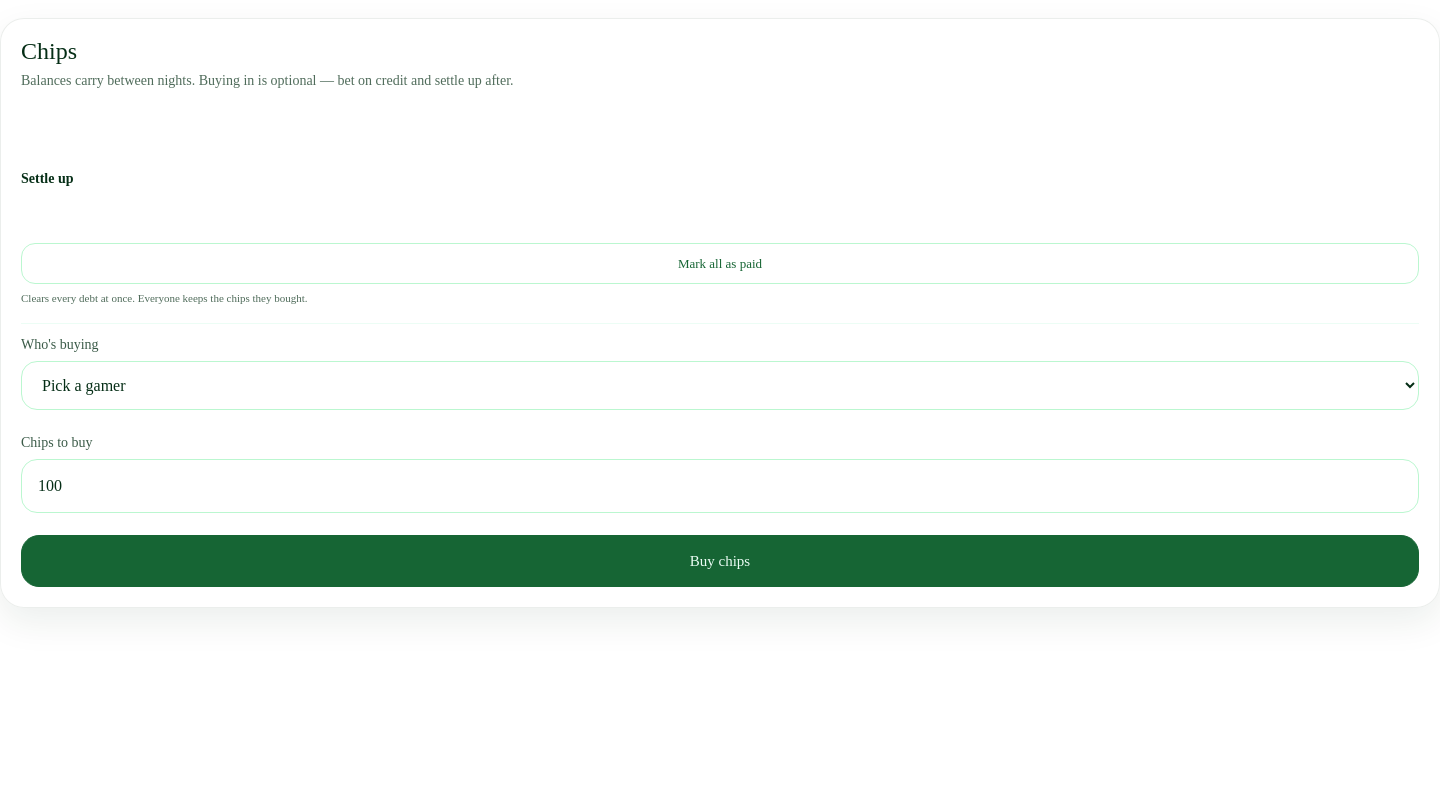
ChipLedgerPanel › will not buy without a buyer
Click the button "Buy chips" at (720, 561), box [21,534,1419,587]
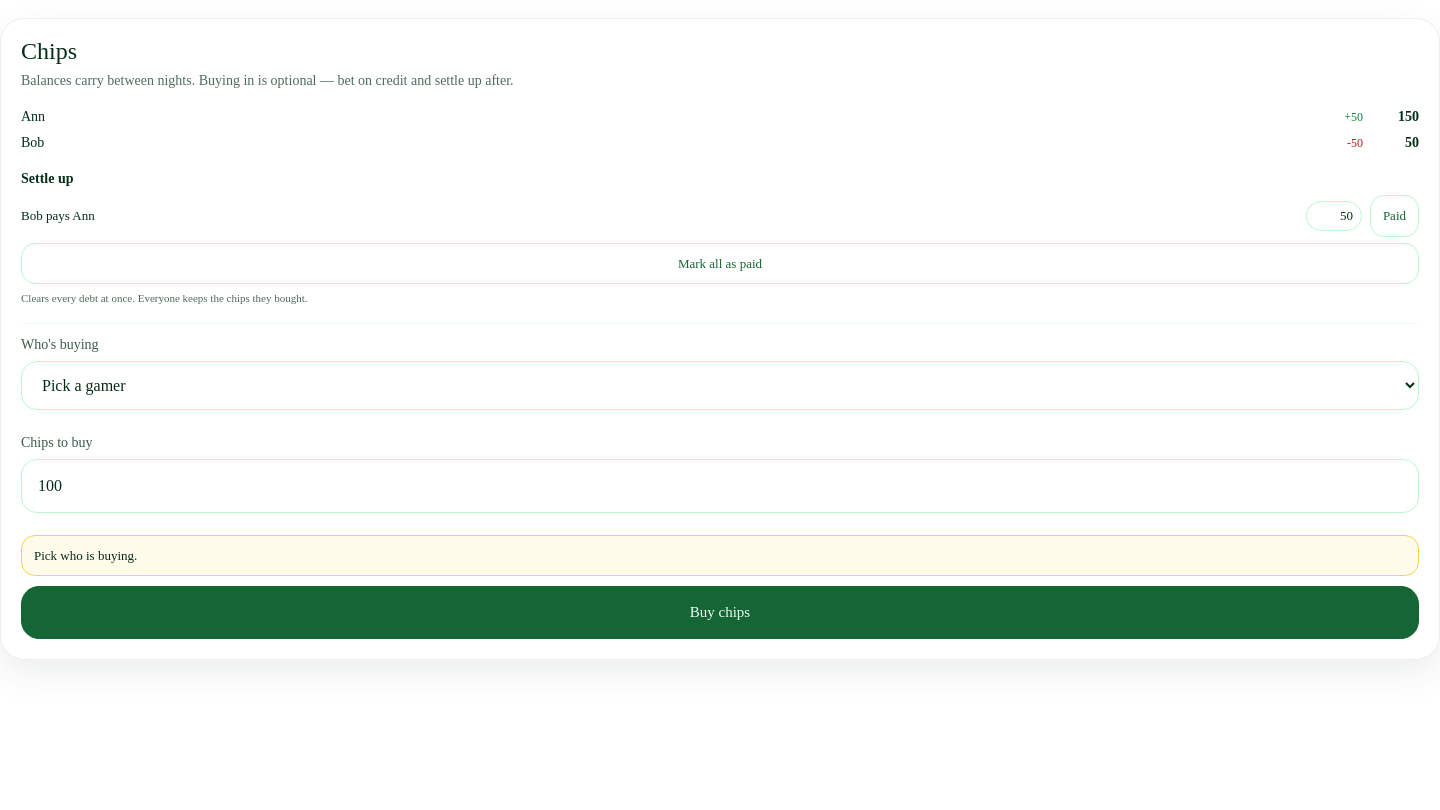
Now the text "Pick who is buying." is shown, box [21,534,1419,576]
